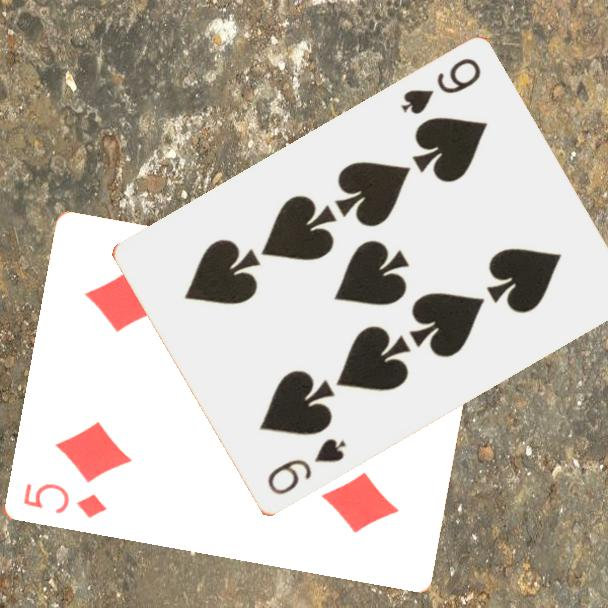d05: (19, 480, 110, 522)
s09: (263, 435, 350, 499), (397, 55, 484, 119)
